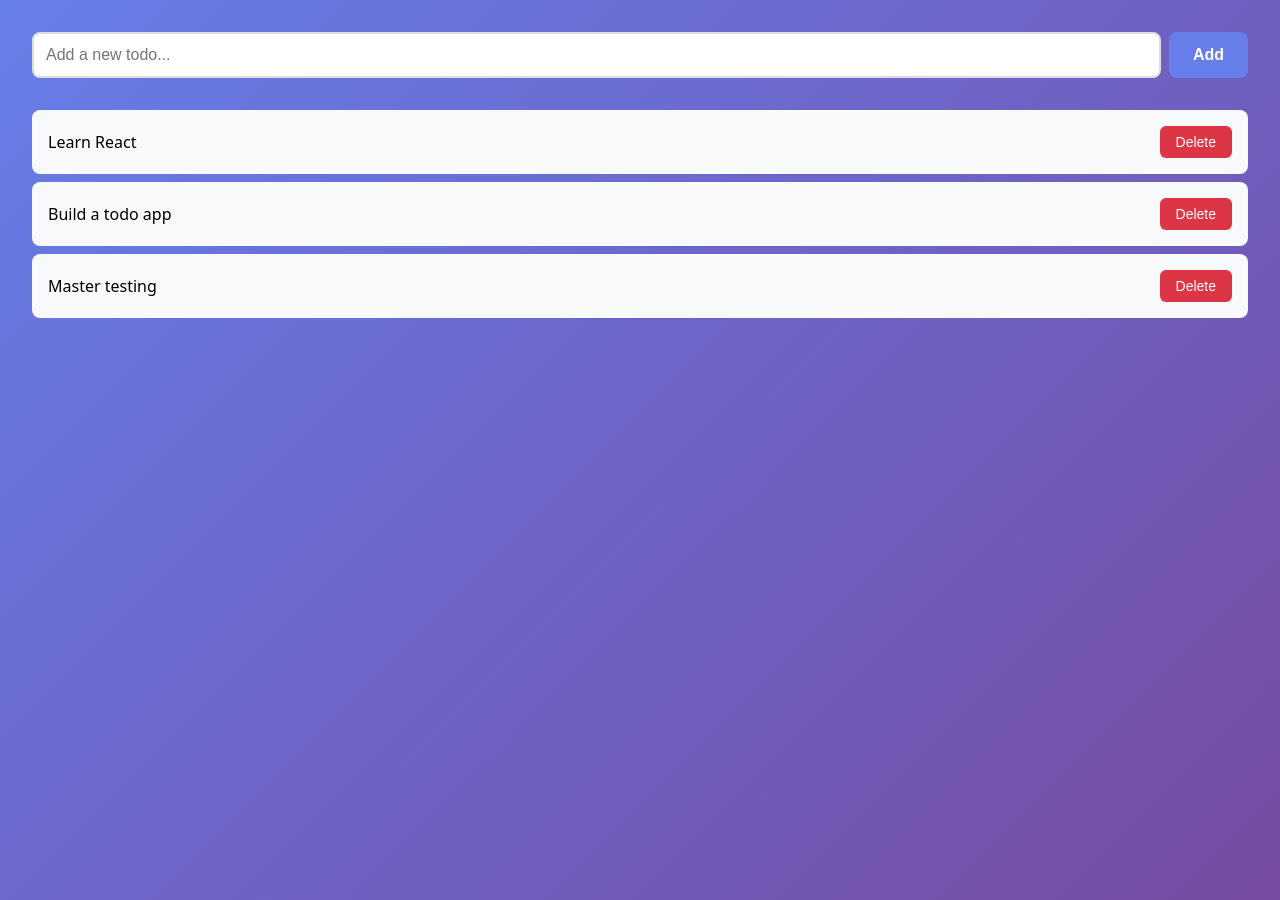
Test: TodoList Component › adds a new todo
The width and height of the screenshot is (1280, 900).
Type "New Todo Item" into the field with test id "todo-input".
click(596, 55); type("New Todo Item")  # box [32,32,1161,78]
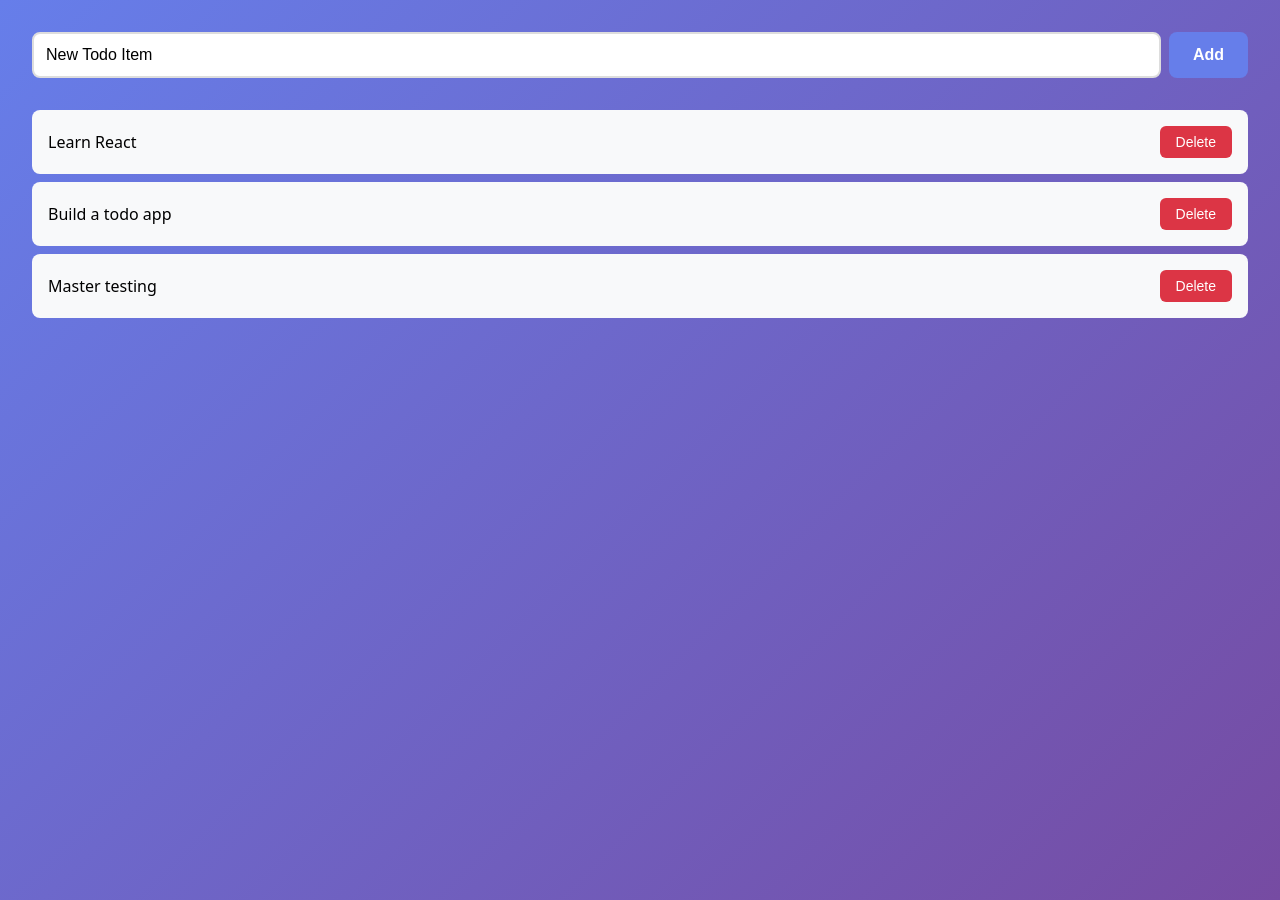
Click the button with test id "add-todo-btn".
click(1208, 55)  # box [1169,32,1248,78]
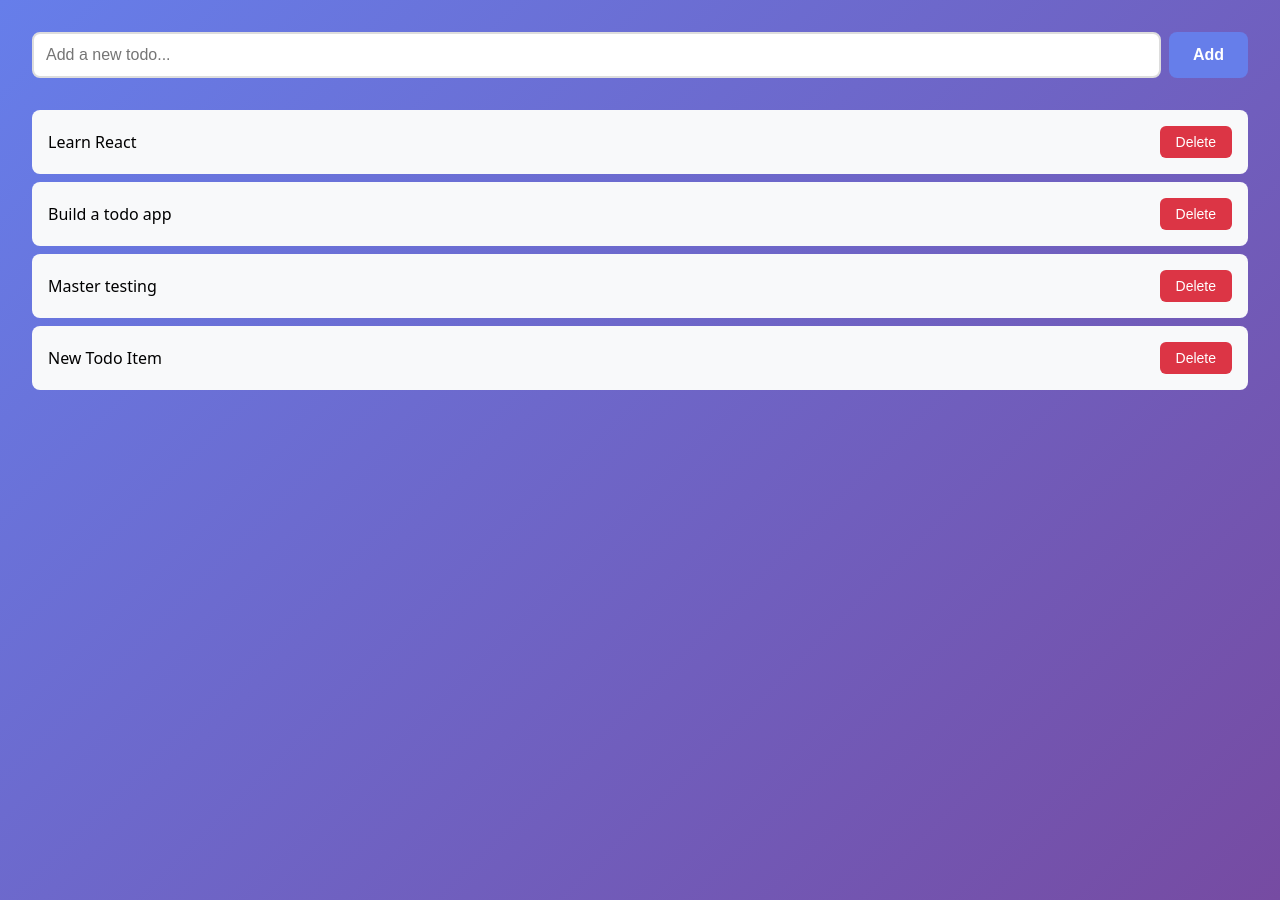
Result: the text "New Todo Item" is shown at [48,347,162,369]
